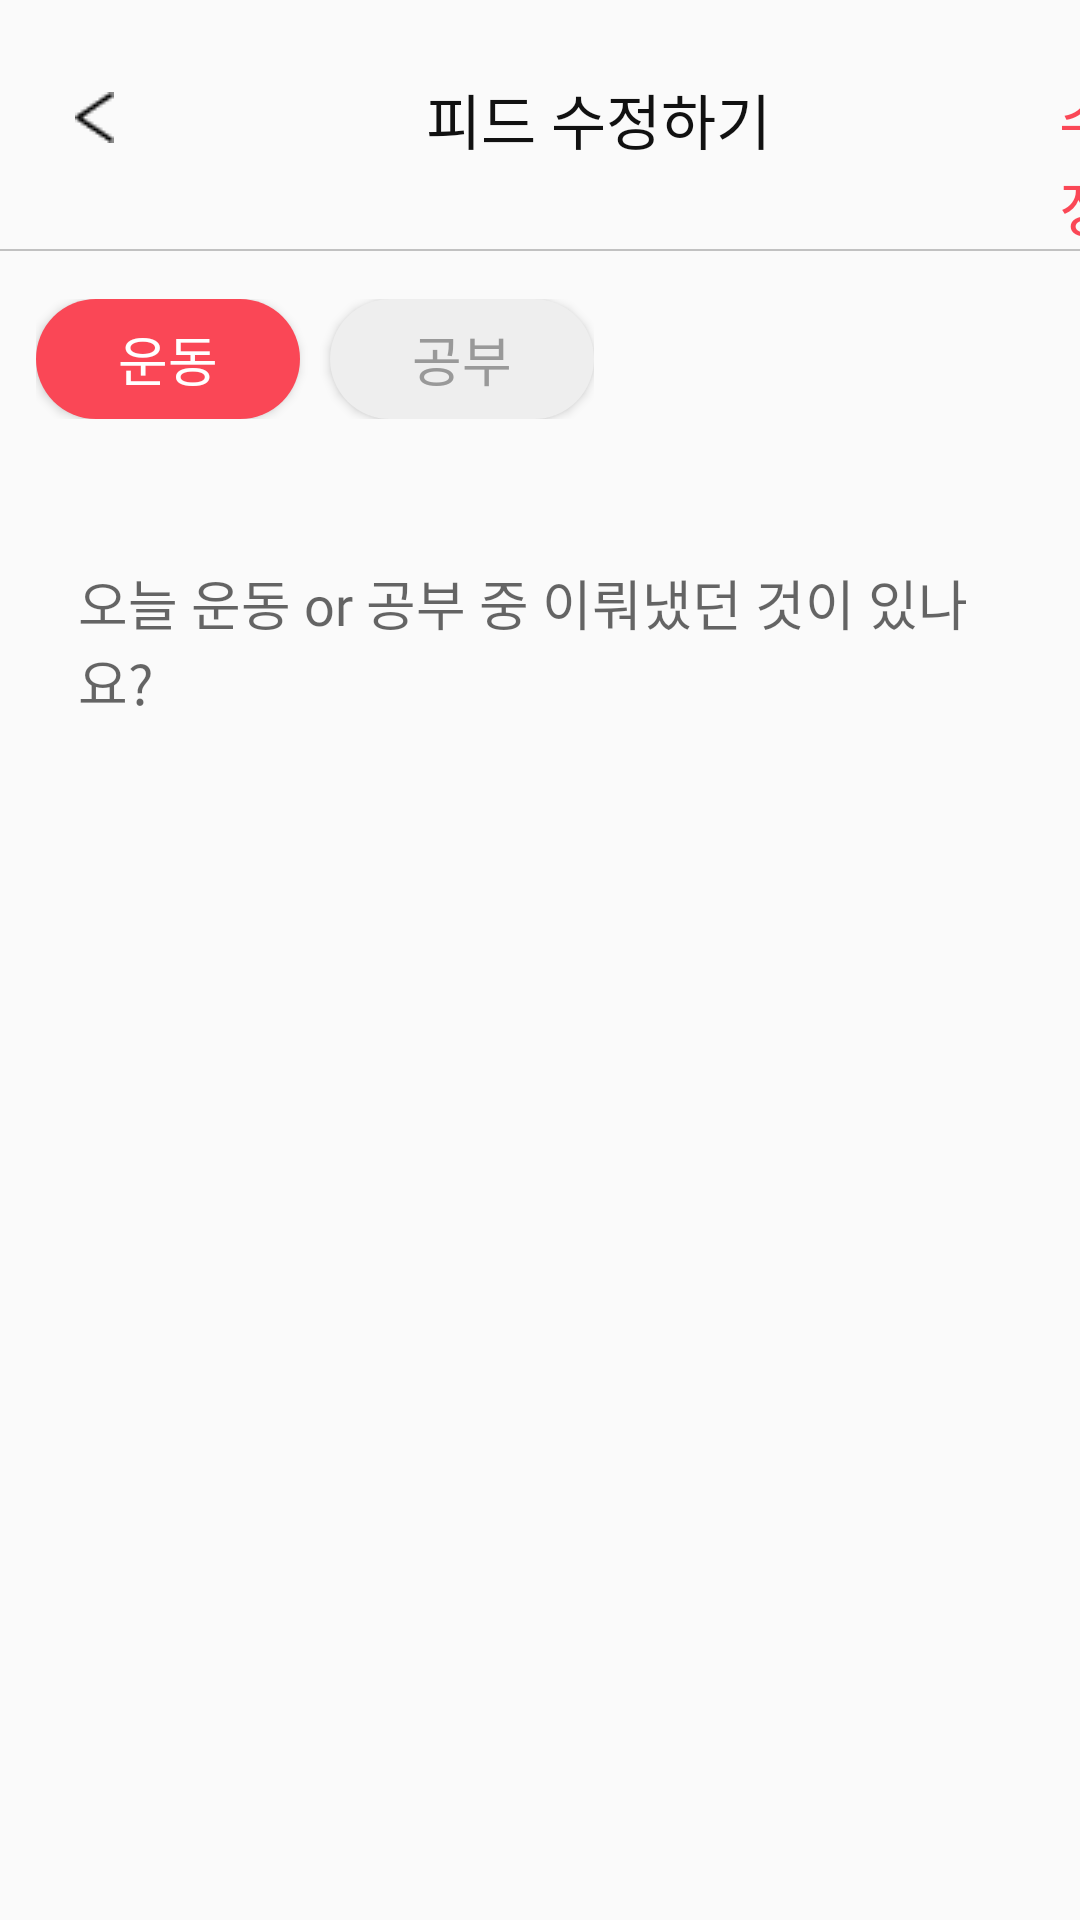

Where icons sit on this 1080×1920 app screen, as {"x1": x1, "y1": y1, "x2": x2, "y2": y2}:
leftarrow: {"x1": 75, "y1": 92, "x2": 114, "y2": 143}
